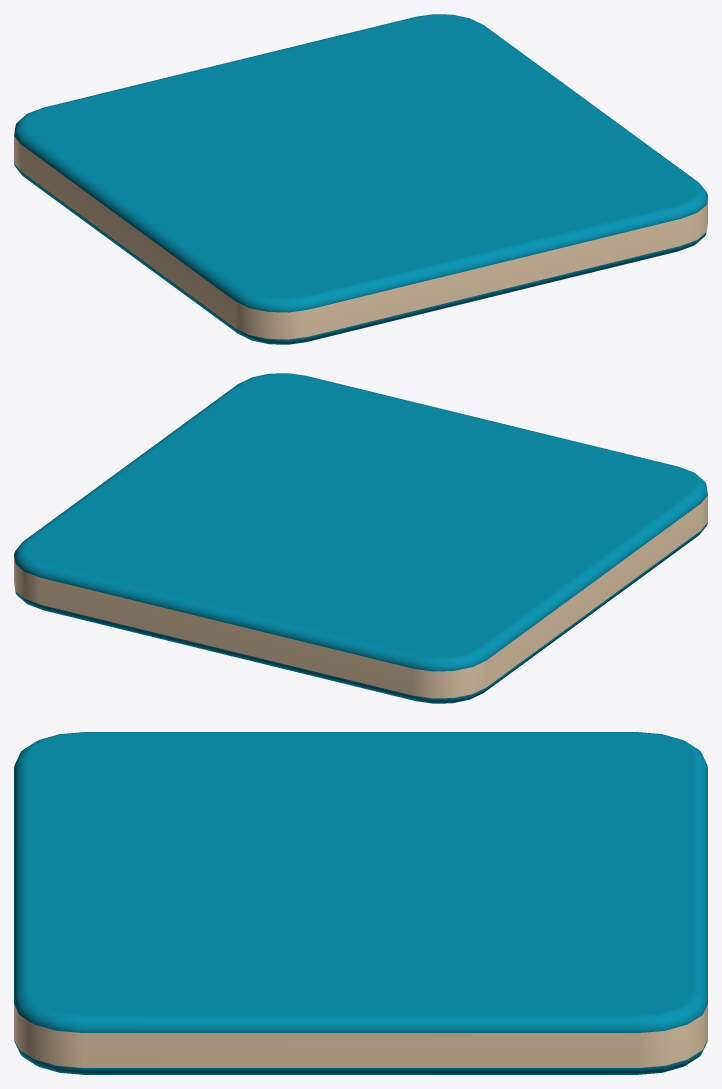
Rendered from Plane1_Map1.fbx.
3 views of the same model, one above another, from view 1: azimuth 30°, elevation 25°; view 2: azimuth 150°, elevation 25°; view 3: azimuth 270°, elevation 25° (orthographic). The views are drawn at different scales.
Parts seen in each view (by area): view 1: Plane1_Map1; view 2: Plane1_Map1; view 3: Plane1_Map1.
Part boxes in pixels (<box>): Plane1_Map1: <box>14,14,707,344</box>; Plane1_Map1: <box>14,373,707,703</box>; Plane1_Map1: <box>14,732,707,1074</box>.
Bounding box in the file's own units: 8.65 × 0.7984 × 8.63.
